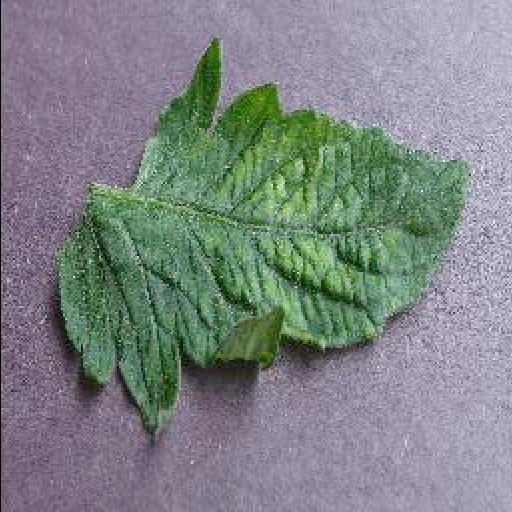Mosaic Virus: (54, 38, 474, 444)
